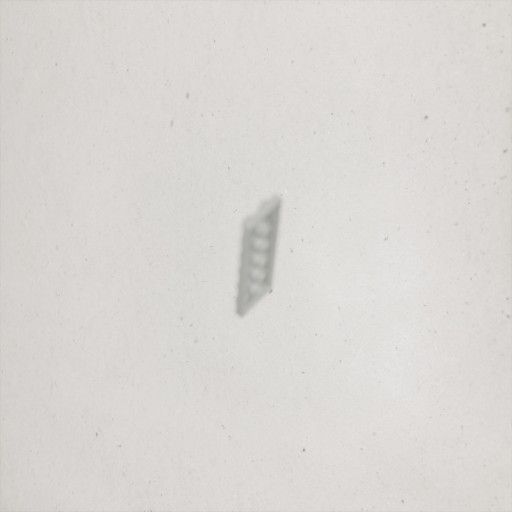lego: (234, 192, 283, 319)
